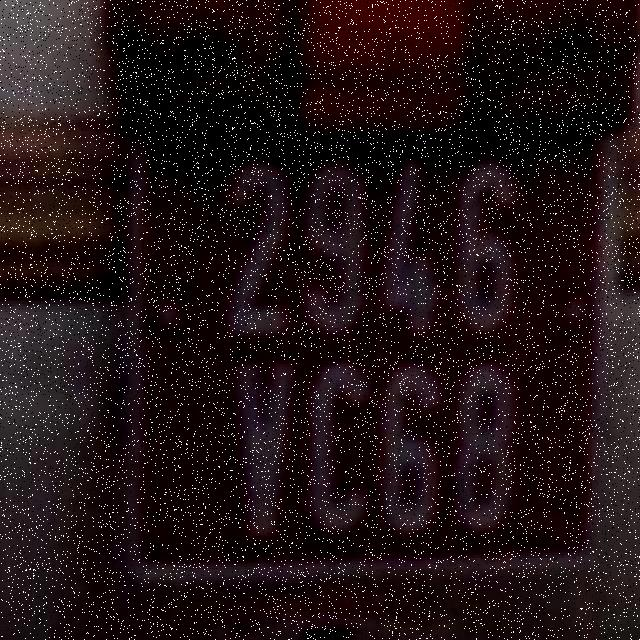licenseplate: (132, 136, 592, 561)
